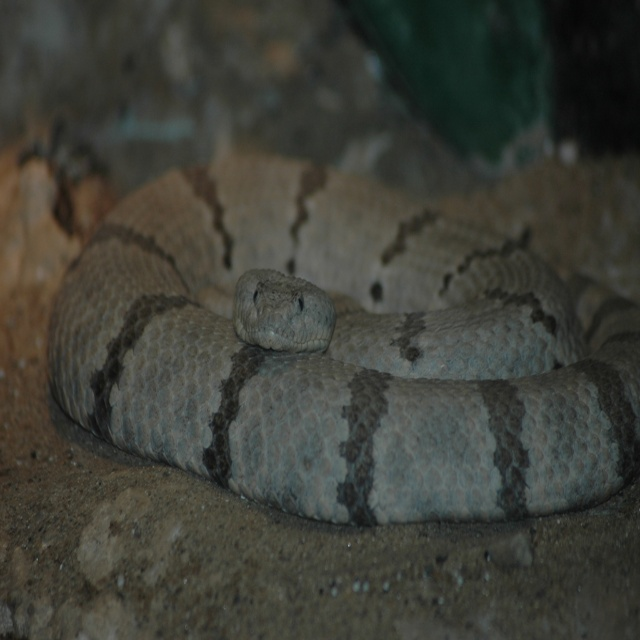Snake: (47, 146, 640, 522)
